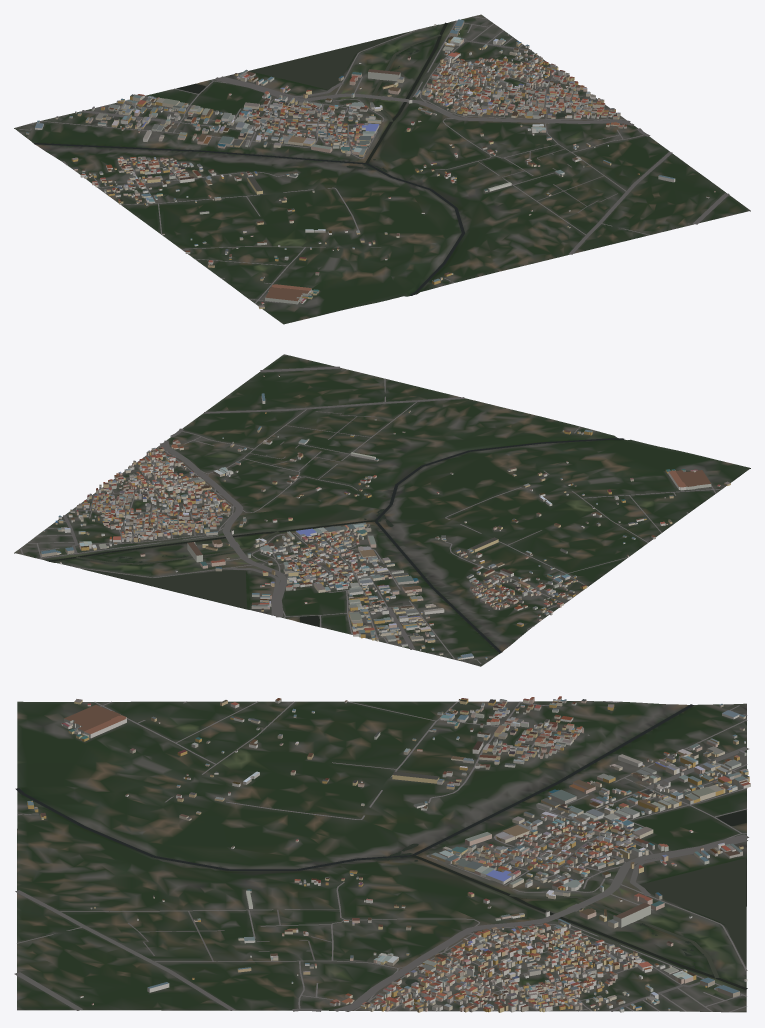
3 renders of one model, top to bottom at view 1: azimuth 30°, elevation 25°; view 2: azimuth 150°, elevation 25°; view 3: azimuth 270°, elevation 25°, orthographic. The views are drawn at different scales.
Parts seen in each view (by area): view 1: ground, buildings, roads, water; view 2: ground, buildings, roads, water; view 3: ground, buildings, roads, water.
Boxes of the visible parts, x1,y1,x2,y2 form: ground: (14,14,750,324); buildings: (26,19,715,308); roads: (19,16,729,303); water: (34,22,565,295); ground: (14,354,750,666); buildings: (41,374,730,659); roads: (20,366,722,663); water: (48,438,623,652); ground: (17,701,746,1012); buildings: (27,696,750,1012); roads: (14,701,748,1012); water: (15,704,747,989).
Size of the model in its own units: 1414 by 26.18 by 1416.
